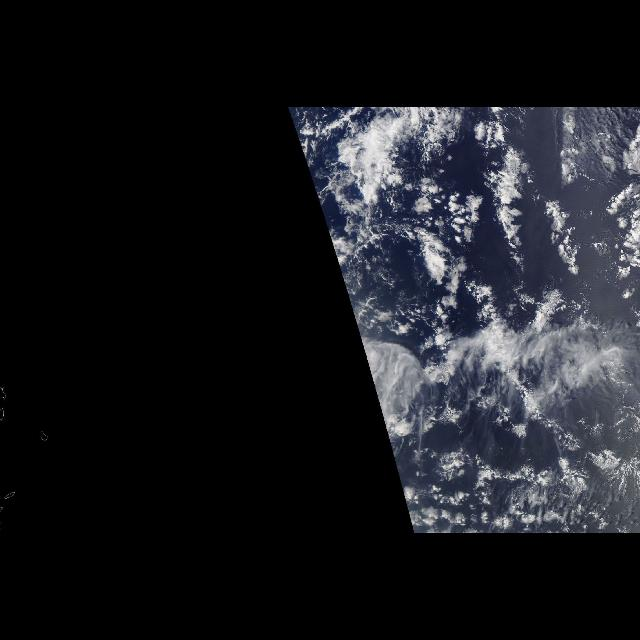Fish: (392, 125, 620, 351)
